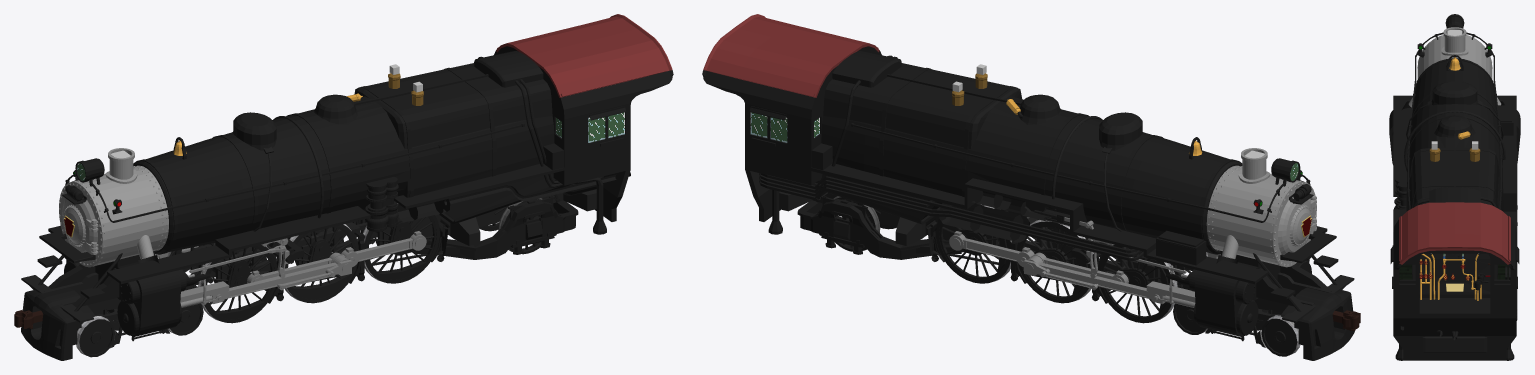
Rendered from k4_pacific.obj.
3 renders of one model, left to right at view 1: azimuth 30°, elevation 25°; view 2: azimuth 150°, elevation 25°; view 3: azimuth 270°, elevation 25°, orthographic. The views are drawn at different scales.
Visible parts, largest first — view 1: SHELL_Cylinder.010, CAB_Cube.009, PIPING_Cylinder.009, SMOKEBOX_Cylinder.002, STEAM_CHEST_Cube.002, K4_FRAME_Cube.003, BOGEY_REAR.001_Cube.023, Cube.006_Cube.007, Cylinder.005_Cylinder.024, WHEEL_DRIVER_1_Circle.002, WHEEL_DRIVER_3_Circle.006, WHEEL_DRIVER_2_Circle.004 (+9 smaller); view 2: SHELL_Cylinder.010, CAB_Cube.009, PIPING_Cylinder.009, SMOKEBOX_Cylinder.002, STEAM_CHEST_Cube.002, BOGEY_REAR.001_Cube.023, Cube.006_Cube.007, Cylinder.005_Cylinder.024, K4_FRAME_Cube.003, WHEEL_DRIVER_1_Circle.002, WHEEL_DRIVER_3_Circle.006, WHEEL_DRIVER_2_Circle.004 (+8 smaller); view 3: CAB_Cube.009, SHELL_Cylinder.010, PIPING_Cylinder.009, SHELL_INTERIOR_Cylinder.045, SMOKEBOX_Cylinder.002, CAB_INTERIOR_Cube.062, K4_FRAME_Cube.003, BOILER_SEGMENT_4_INTERIOR_Cube.072, BOILER_SEGMENT_3.001_Cylinder.027, Circle, Cylinder.005_Cylinder.024, Cylinder.006_Cylinder.018 (+9 smaller).
Boxes of the visible parts, x1,y1,x2,y2 form: SHELL_Cylinder.010: (133,63,572,254); CAB_Cube.009: (474,14,673,221); PIPING_Cylinder.009: (37,74,564,311); SMOKEBOX_Cylinder.002: (59,148,168,267); STEAM_CHEST_Cube.002: (48,250,209,336); K4_FRAME_Cube.003: (44,189,596,310); BOGEY_REAR.001_Cube.023: (407,196,578,259); Cube.006_Cube.007: (21,275,107,360); Cylinder.005_Cylinder.024: (397,56,630,234); WHEEL_DRIVER_1_Circle.002: (167,244,277,323); WHEEL_DRIVER_3_Circle.006: (339,203,439,283); WHEEL_DRIVER_2_Circle.004: (258,224,358,303); SHELL_Cylinder.010: (815,63,1242,254); CAB_Cube.009: (702,14,901,221); PIPING_Cylinder.009: (759,74,1338,311); SMOKEBOX_Cylinder.002: (1206,148,1316,267); STEAM_CHEST_Cube.002: (1166,250,1327,336); BOGEY_REAR.001_Cube.023: (797,195,968,259); Cube.006_Cube.007: (1268,275,1354,360); Cylinder.005_Cylinder.024: (768,55,1069,242); K4_FRAME_Cube.003: (779,188,1331,309); WHEEL_DRIVER_1_Circle.002: (1098,244,1207,323); WHEEL_DRIVER_3_Circle.006: (936,203,1044,283); WHEEL_DRIVER_2_Circle.004: (1017,220,1117,303); CAB_Cube.009: (1390,187,1519,360); SHELL_Cylinder.010: (1406,58,1503,297); PIPING_Cylinder.009: (1393,32,1517,320); SHELL_INTERIOR_Cylinder.045: (1412,253,1497,294); SMOKEBOX_Cylinder.002: (1417,27,1492,79); CAB_INTERIOR_Cube.062: (1399,283,1490,313); K4_FRAME_Cube.003: (1422,336,1487,352); BOILER_SEGMENT_4_INTERIOR_Cube.072: (1419,254,1480,300); BOILER_SEGMENT_3.001_Cylinder.027: (1434,115,1475,137); Circle: (1404,110,1505,171); Cylinder.005_Cylinder.024: (1395,197,1517,360); Cylinder.006_Cylinder.018: (1394,175,1407,209).
Bounding box in the file's own units: 16.43 × 4.8 × 3.51.
Materials: 35 (28 with a texture image).
